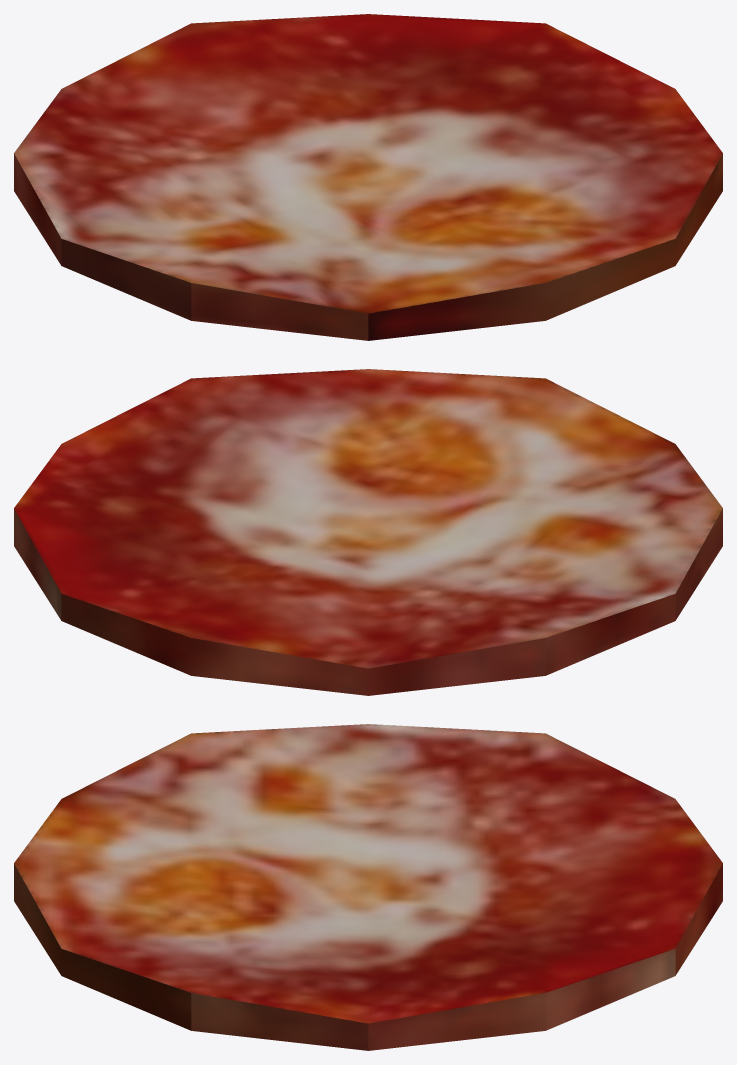
The model's file is pepp.glb.
3 views of the same model, one above another, from view 1: azimuth 30°, elevation 25°; view 2: azimuth 150°, elevation 25°; view 3: azimuth 270°, elevation 25° (orthographic).
Parts seen in each view (by area): view 1: Slice.001; view 2: Slice.001; view 3: Slice.001.
Part boxes in pixels (<box>): Slice.001: <box>14,14,722,340</box>; Slice.001: <box>14,369,722,695</box>; Slice.001: <box>14,724,722,1050</box>.
Bounding box in the file's own units: 0.3815 × 0.0225 × 0.3815.
1 material, 1 textured.
